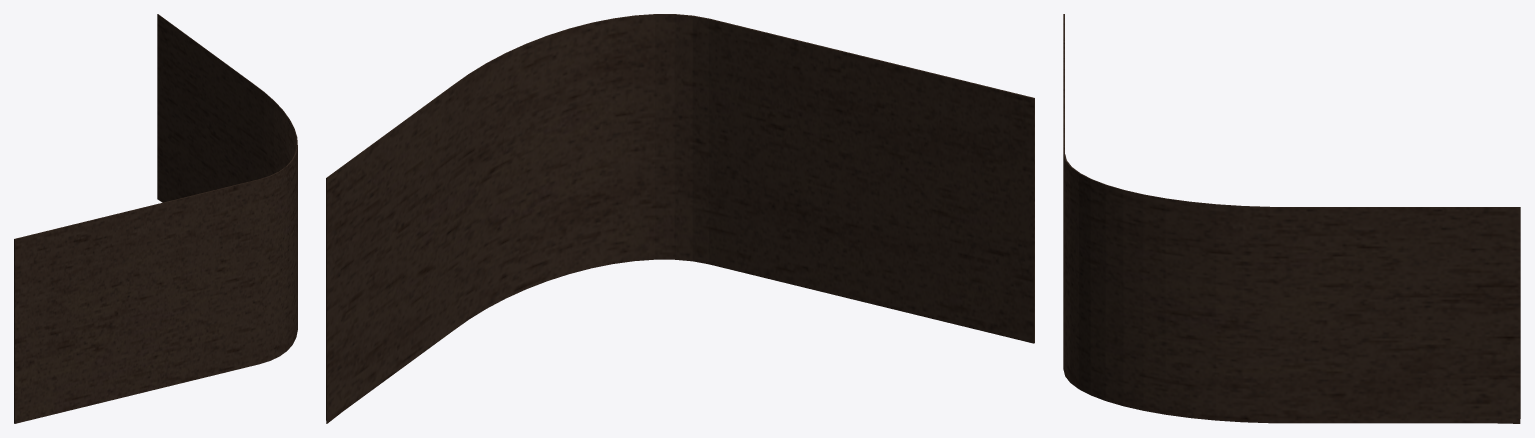
The model's file is WorkInProgressBendWall.glb.
3 views of the same model, side by side, from view 1: azimuth 30°, elevation 25°; view 2: azimuth 150°, elevation 25°; view 3: azimuth 270°, elevation 25° (orthographic). The views are drawn at different scales.
Visible parts, largest first — view 1: Cube; view 2: Cube; view 3: Cube.
Boxes of the visible parts, x1=… form: Cube: x1=14, y1=14, x2=297, y2=423; Cube: x1=326, y1=14, x2=1034, y2=423; Cube: x1=1063, y1=14, x2=1520, y2=423.
Bounding box in the file's own units: 5.53 × 2.89 × 5.52.
Materials: 1 (1 with a texture image).
